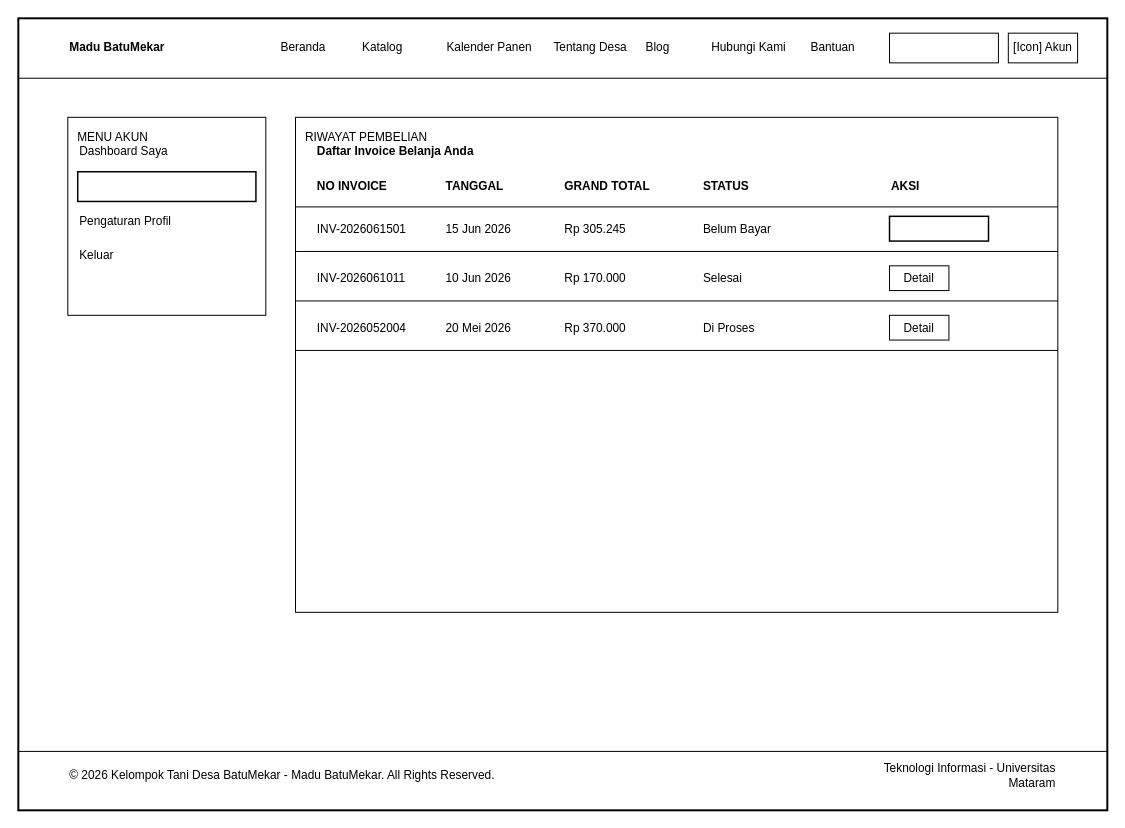
Some shapes in this 1125 by 828 pixel diagram are drawn without their labels. Here are the shapes that lost their labels. From the top down, the centre of each, then its label:
At (x=943, y=47): "[Icon] Keranjang (2)".
At (x=166, y=186): "Riwayat Pesanan".
At (x=938, y=228): "Upload Bukti".
